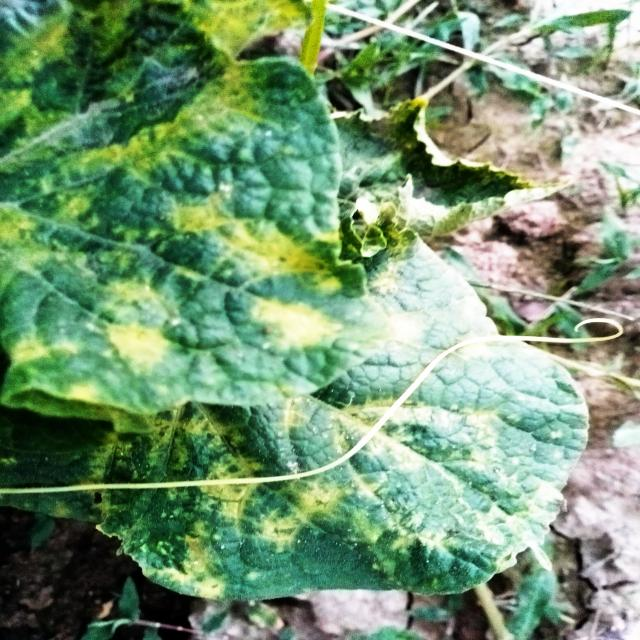Downy-Mildew: (0, 217, 594, 603), (0, 0, 399, 410)
